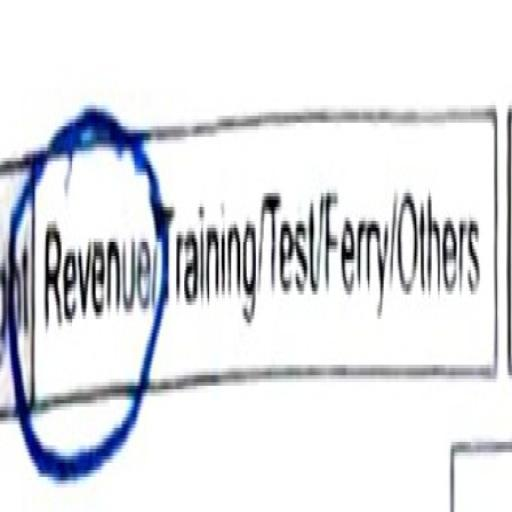check: (10, 94, 152, 482)
